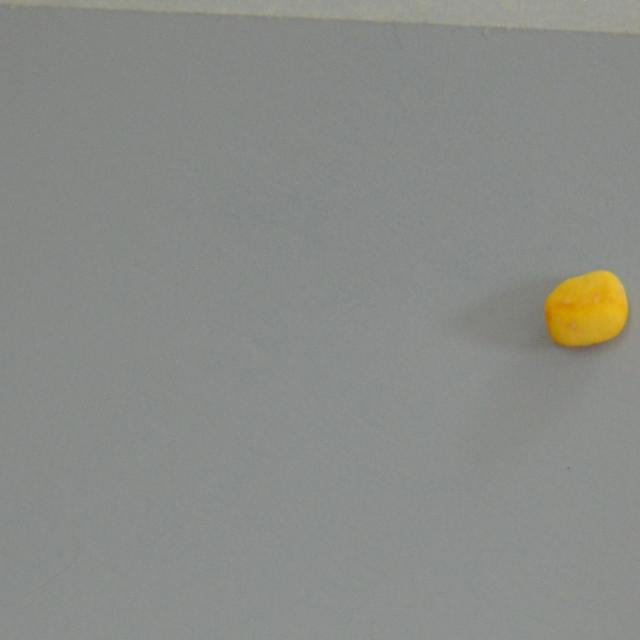dañado: (534, 255, 640, 364)
